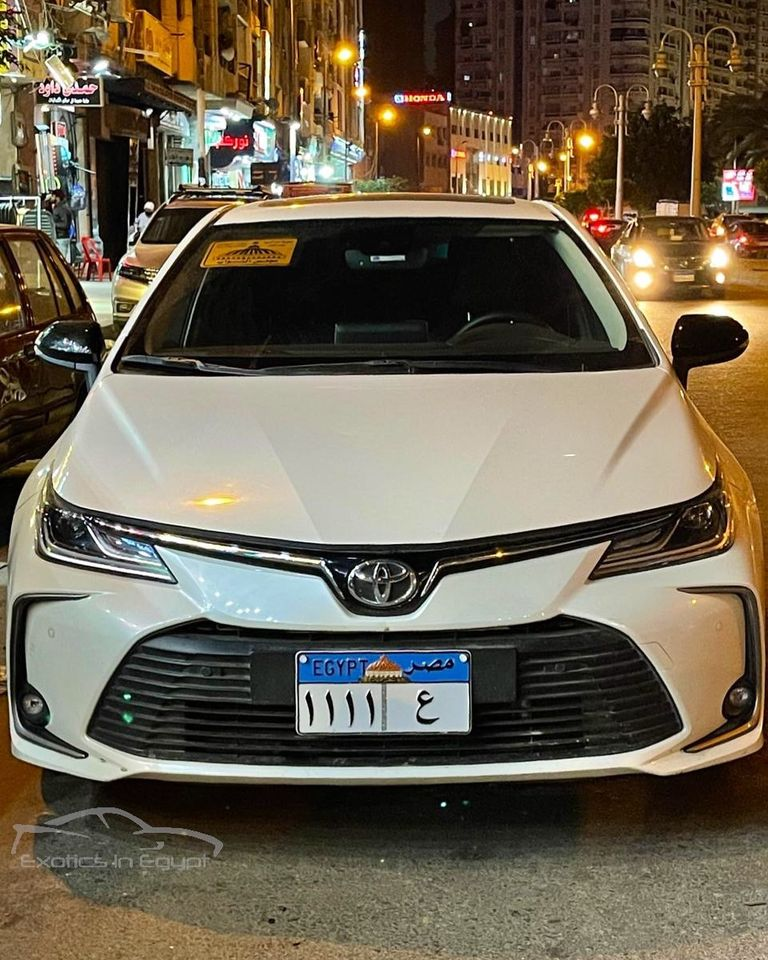carpl: (291, 657, 484, 740)
